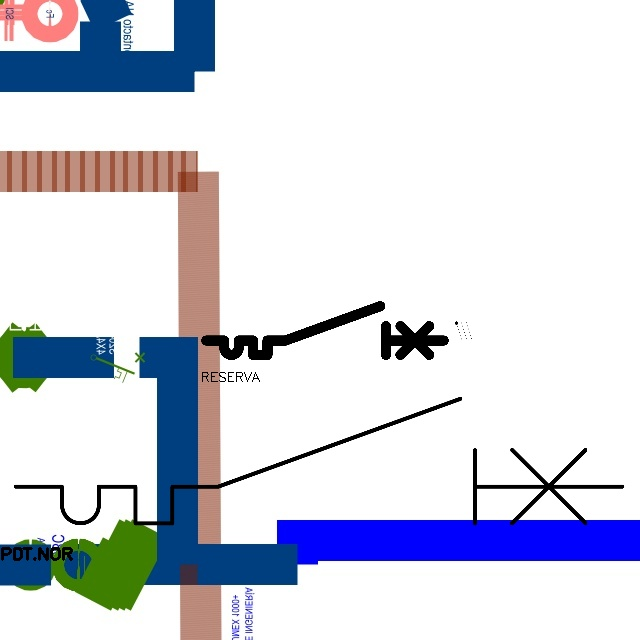interruptor_termomagnetico: (0, 383, 638, 539), (200, 300, 449, 361)
